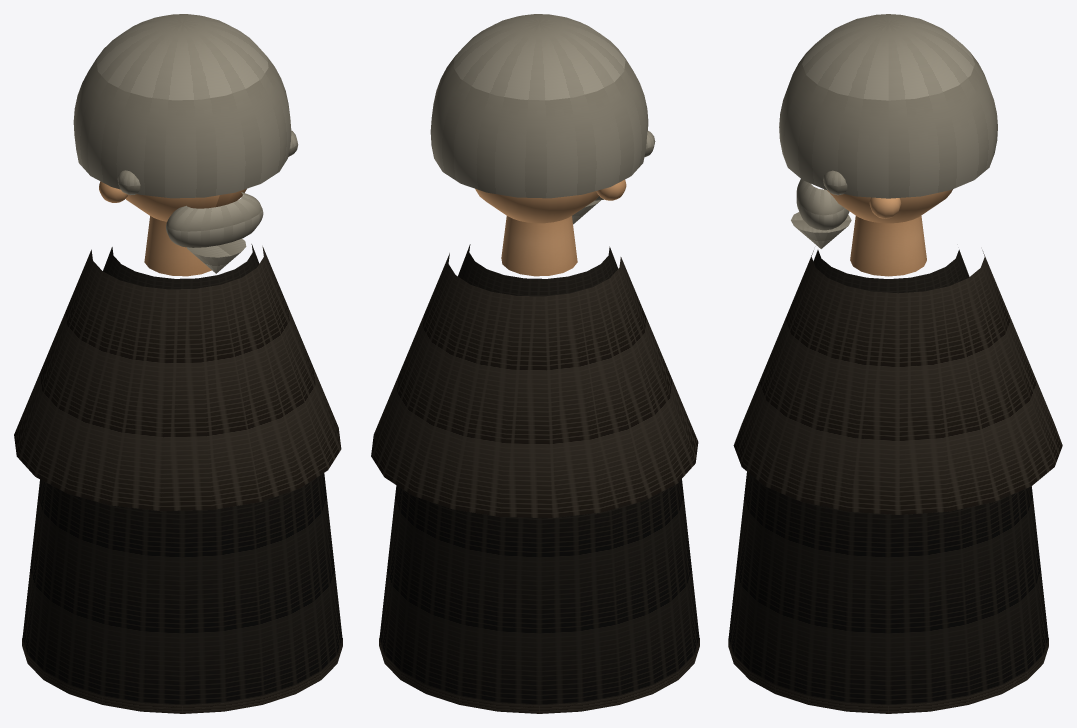
File: nathan_gardener.glb
3 renders of one model, left to right at view 1: azimuth 30°, elevation 25°; view 2: azimuth 150°, elevation 25°; view 3: azimuth 270°, elevation 25°, orthographic.
Visible parts, largest first — view 1: Character_nathan_the_gardener, head; view 2: Character_nathan_the_gardener, head; view 3: Character_nathan_the_gardener, head.
Part boxes in pixels (x1=…): Character_nathan_the_gardener: x1=14, y1=14, x2=342, y2=713; head: x1=125, y1=189, x2=246, y2=221; Character_nathan_the_gardener: x1=371, y1=14, x2=699, y2=713; head: x1=475, y1=188, x2=598, y2=223; Character_nathan_the_gardener: x1=728, y1=14, x2=1062, y2=713; head: x1=824, y1=189, x2=952, y2=223.
Bounding box in the file's own units: 0.8627 × 1.8 × 0.877.
Materials: 8 (4 with a texture image).
